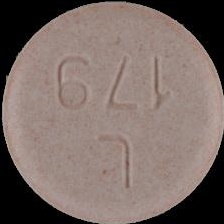16714-315: (0, 0, 224, 224)
